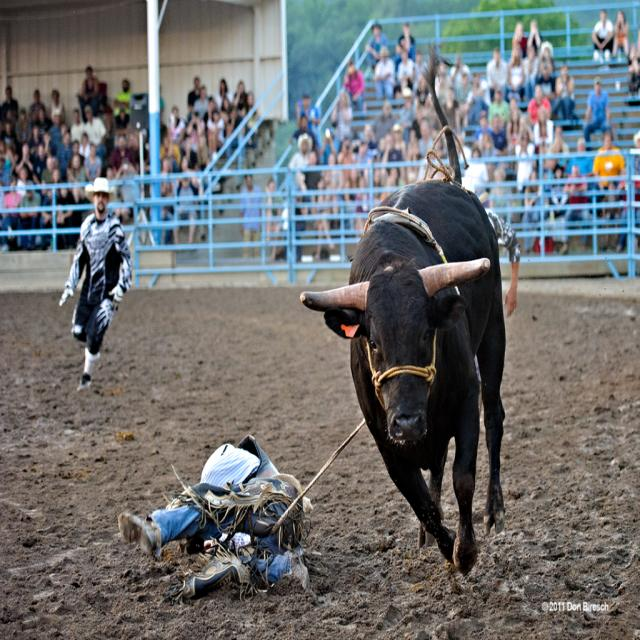Bull: (302, 174, 504, 575)
